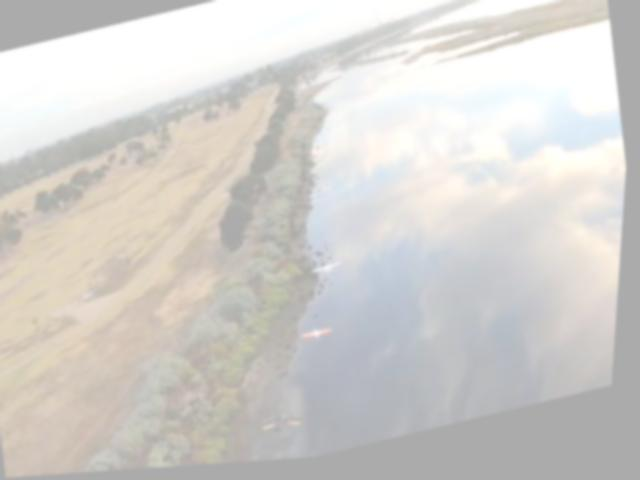uav: (264, 407, 311, 445), (301, 323, 340, 352), (310, 260, 347, 281)
